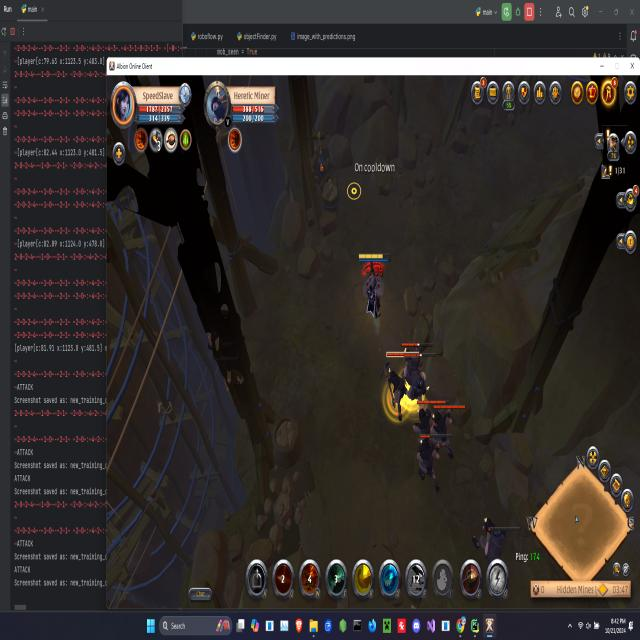ore: (412, 396, 464, 458), (471, 504, 522, 566), (417, 426, 455, 503), (381, 345, 413, 425), (401, 338, 437, 406)
red: (359, 244, 392, 321)
